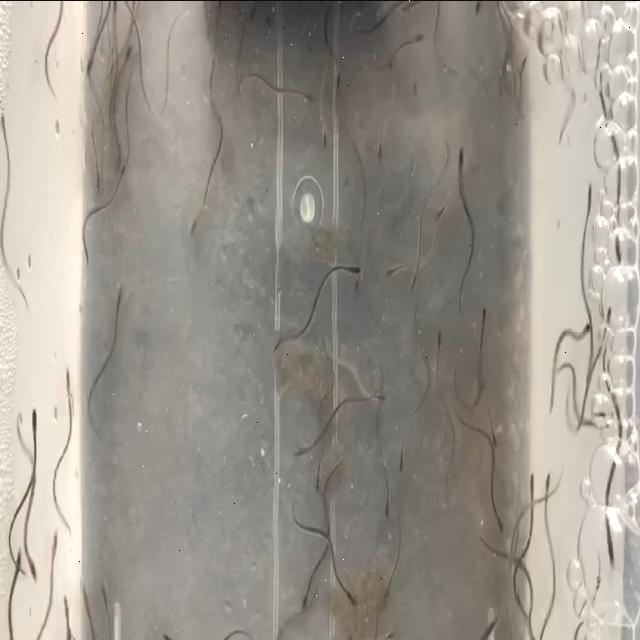active_glass_eel: (182, 183, 214, 248), (96, 544, 125, 604), (108, 32, 136, 84), (599, 524, 621, 584), (606, 228, 632, 276), (292, 68, 316, 118), (52, 350, 76, 399), (342, 571, 366, 615), (404, 70, 428, 112), (78, 41, 103, 81), (379, 252, 399, 300), (381, 595, 402, 640), (114, 268, 136, 310), (488, 504, 510, 546), (448, 140, 472, 178), (78, 568, 100, 608), (110, 153, 134, 187), (26, 395, 44, 440), (601, 296, 618, 342), (404, 24, 430, 54), (353, 246, 368, 296), (310, 120, 330, 156), (304, 463, 328, 493), (537, 461, 555, 501), (578, 300, 594, 344), (402, 264, 422, 298), (48, 518, 62, 566), (580, 172, 596, 214), (374, 133, 394, 165), (487, 421, 503, 458), (24, 546, 40, 582), (54, 592, 70, 628), (525, 459, 541, 495), (86, 162, 106, 190), (472, 307, 492, 331), (380, 486, 396, 516), (330, 71, 344, 105), (432, 197, 449, 225), (369, 388, 387, 410), (396, 446, 410, 474), (298, 578, 310, 610), (434, 324, 448, 350)
